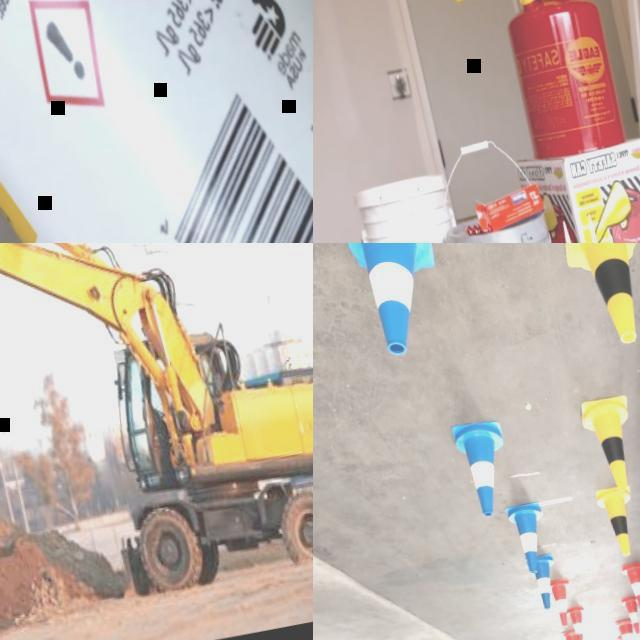machinery: (0, 243, 313, 640)
safety_cone: (331, 243, 455, 362), (550, 243, 640, 356), (446, 416, 520, 520), (575, 391, 640, 499), (591, 481, 640, 560), (502, 501, 552, 578), (528, 552, 563, 610), (548, 576, 578, 628), (618, 561, 640, 612), (566, 603, 592, 640), (618, 592, 640, 635), (614, 618, 638, 640), (558, 628, 587, 640)
